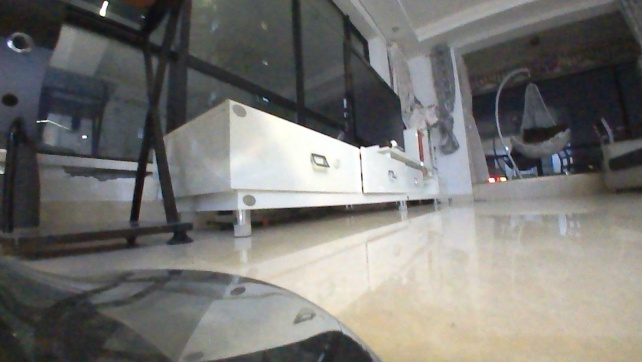TV_stand: (152, 97, 443, 237)
sofa1: (596, 136, 641, 195)
